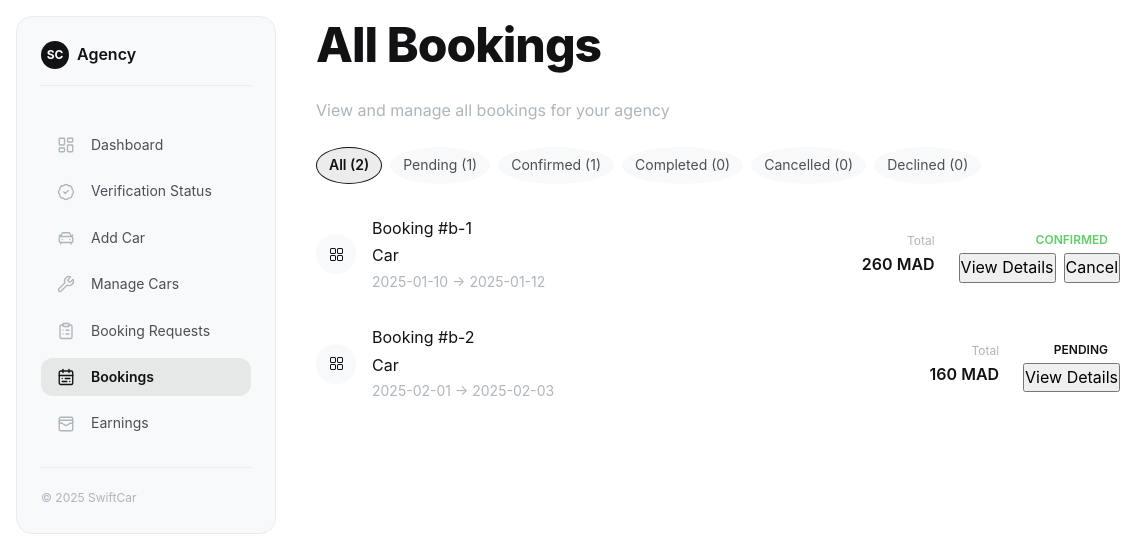
AgencyBookingsPage › lists bookings for the current agency and filters by status
Expected: the text "Booking #b-1" is shown, [372,218,472,238]
Expected: the text "Booking #b-2" is shown, [372,327,475,347]
Note: Filter by pending
Step 1. Click the button "Pending (1)" → coordinates (440, 165), box [390,147,490,184]
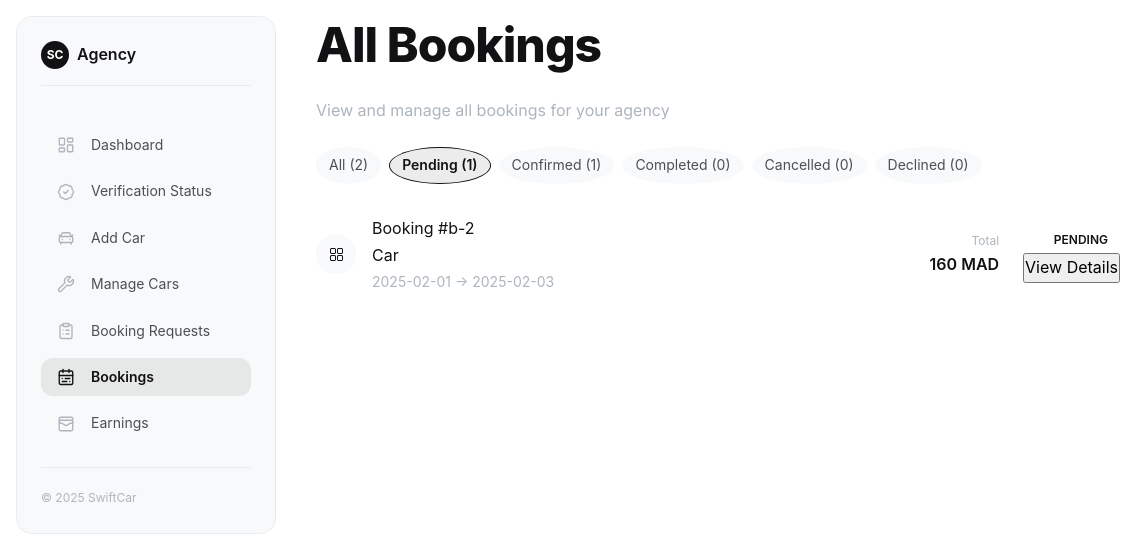
Expected: the text "Booking #b-2" is shown, [372,218,475,238]
Now the text "Booking #b-1" is gone
